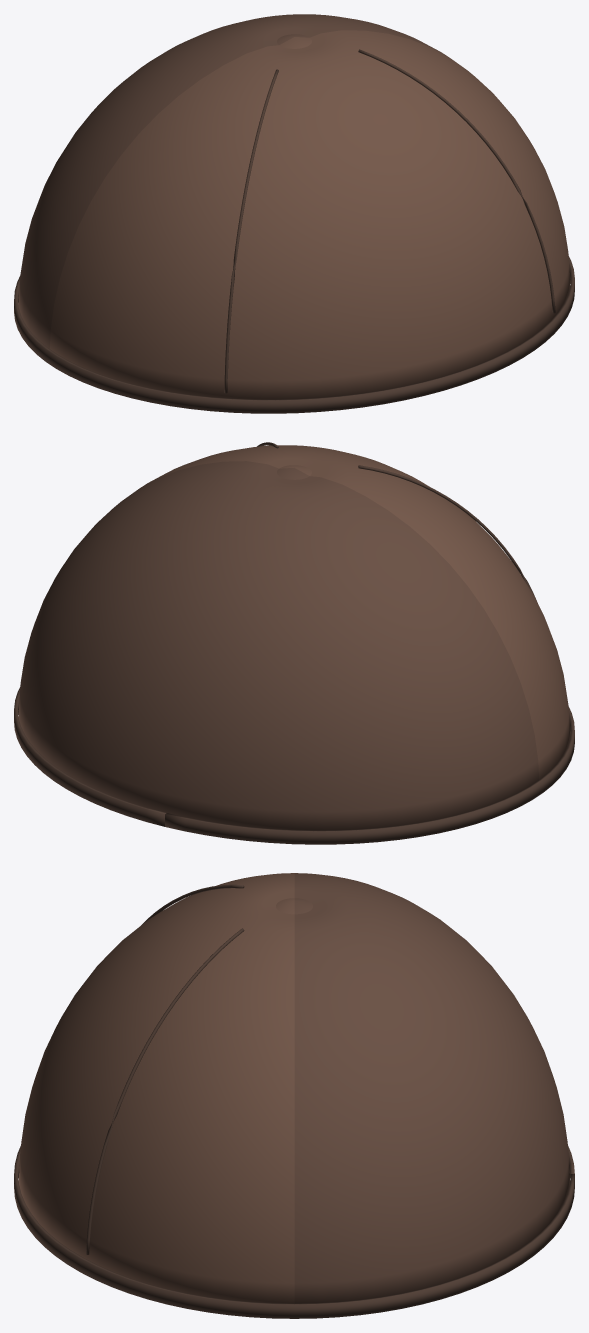
The model's file is goose-face-aviator-cap.glb.
3 renders of one model, top to bottom at view 1: azimuth 30°, elevation 25°; view 2: azimuth 150°, elevation 25°; view 3: azimuth 270°, elevation 25°, orthographic. The views are drawn at different scales.
Parts seen in each view (by area): view 1: goose_face_aviator_cap_mesh; view 2: goose_face_aviator_cap_mesh; view 3: goose_face_aviator_cap_mesh.
Boxes of the visible parts, bbox=[...] form: goose_face_aviator_cap_mesh: bbox=[14, 14, 574, 413]; goose_face_aviator_cap_mesh: bbox=[14, 442, 574, 844]; goose_face_aviator_cap_mesh: bbox=[14, 873, 574, 1318].
Size of the model in its own units: 0.916 by 0.465 by 0.826.
